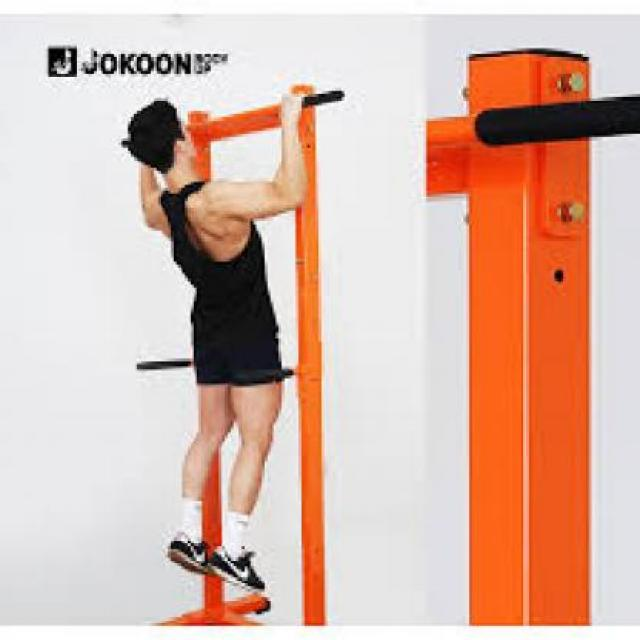chinning dipping: (120, 85, 349, 624)
